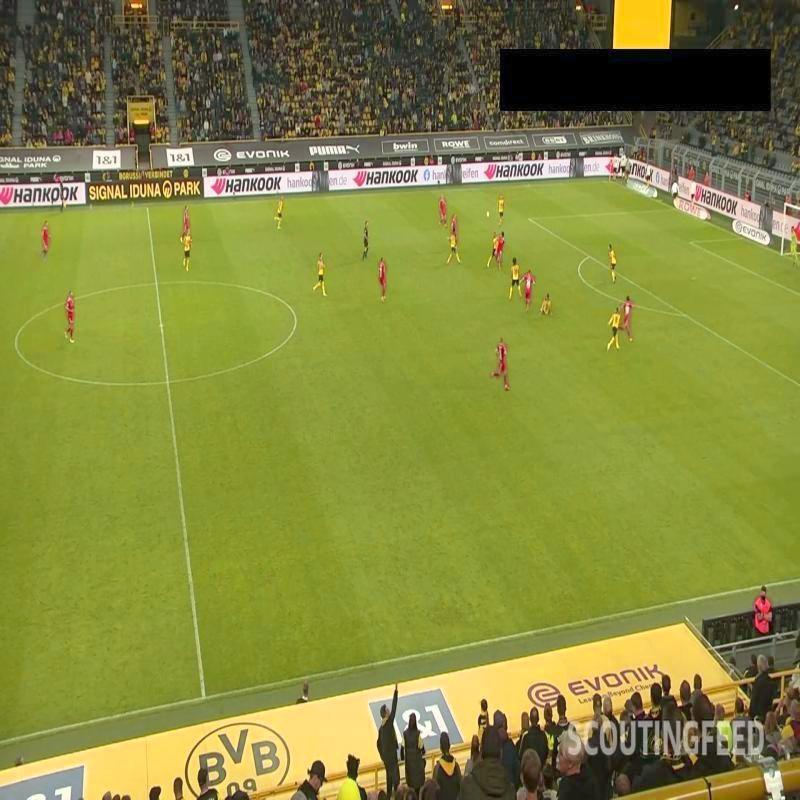1: (602, 175, 616, 189)
10: (581, 248, 599, 264)
11: (676, 306, 696, 326)
13: (140, 199, 155, 215)
14: (148, 276, 164, 292)
15: (159, 374, 176, 392)
16: (192, 687, 216, 710)
2: (663, 200, 683, 217)
3: (734, 230, 752, 246)
7: (683, 235, 697, 248)
9: (520, 210, 535, 224)
c: (284, 302, 306, 330), (5, 334, 26, 358)
